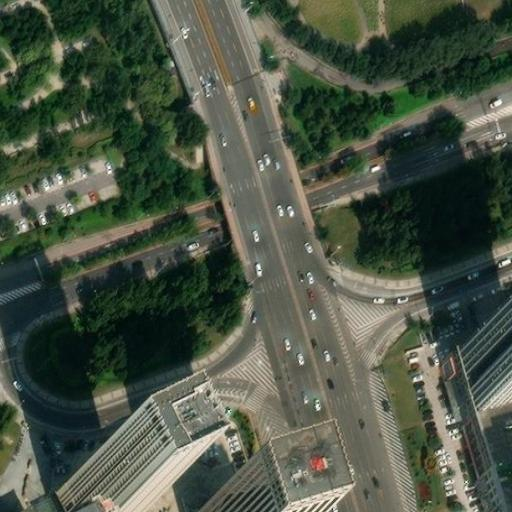building: (115, 420, 251, 512), (461, 400, 512, 512), (443, 333, 512, 415), (68, 444, 146, 512)
